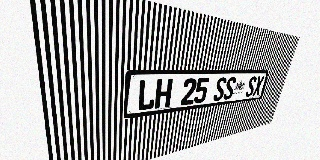2: (180, 78, 197, 106)
5: (193, 78, 210, 104)
H: (154, 79, 173, 109)
L: (137, 79, 157, 111)
S: (212, 77, 227, 101), (223, 77, 237, 100), (245, 76, 257, 97)
X: (252, 76, 264, 96)
